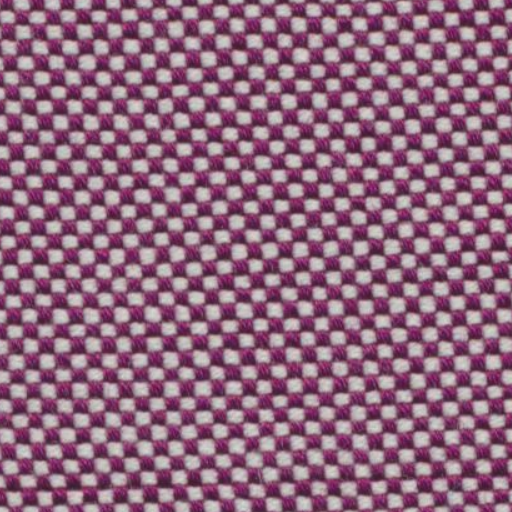TuoSha: (12, 460, 500, 498)
